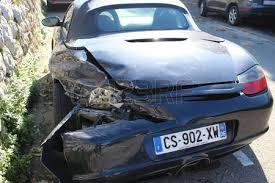Headlight-Damage: (59, 71, 124, 117)
front-bumper-dent: (94, 111, 255, 167)
